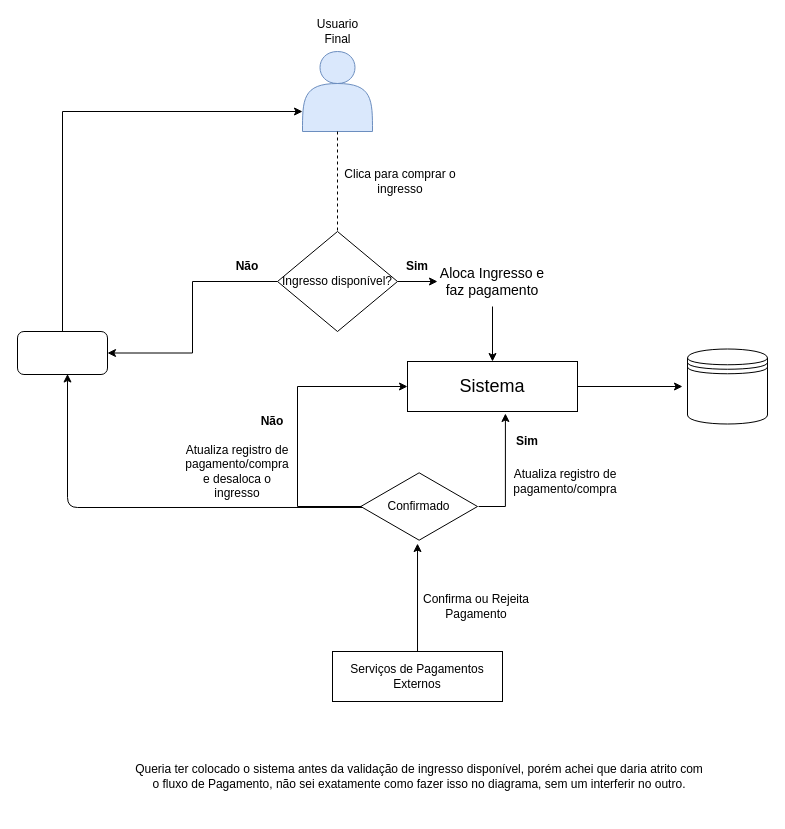
Some shapes in this 785 by 829 pixel diagram are drawn without their labels. Here are the shapes that lost their labels. From the top down, the centre of each, then its label:
At pixel 62 352: "Erro".
At pixel 727 386: "SQL DB".
